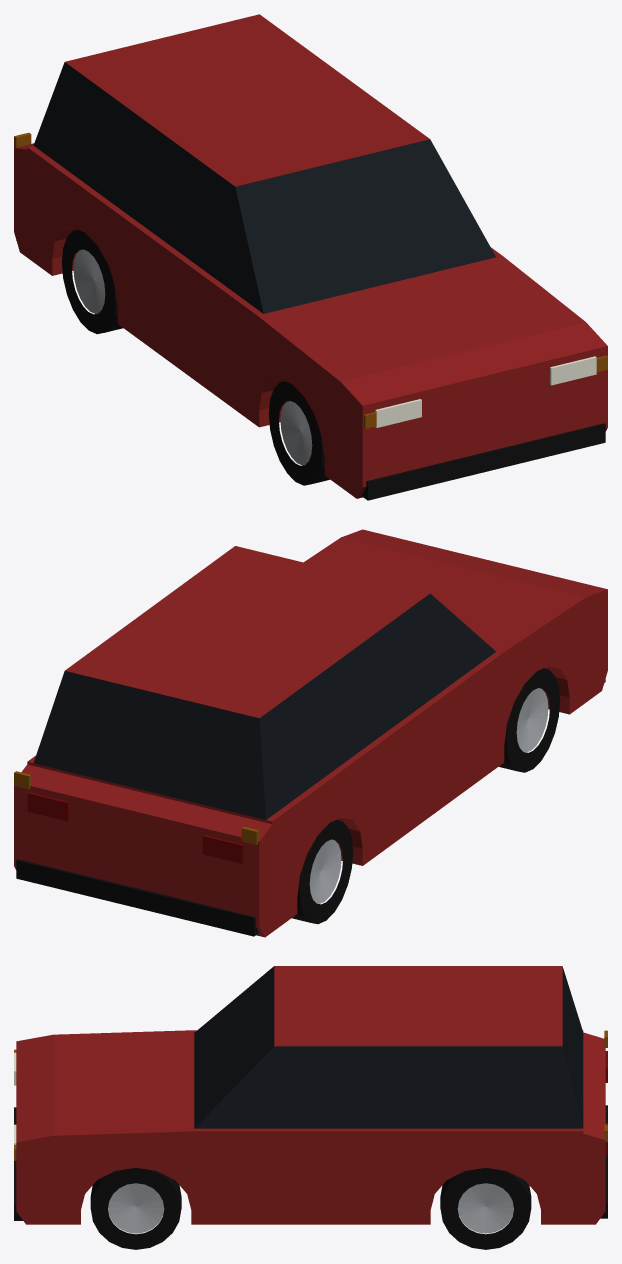
File: body.glb
3 renders of one model, top to bottom at view 1: azimuth 30°, elevation 25°; view 2: azimuth 150°, elevation 25°; view 3: azimuth 270°, elevation 25°, orthographic. The views are drawn at different scales.
Visible parts, largest first — view 1: cabin, shell, trim, wheel_RF, wheel_RR, headlight_L, headlight_R; view 2: cabin, shell, trim, wheel_RF, wheel_RR, taillight_L, taillight_R; view 3: shell, cabin, wheel_LF, wheel_LR, trim.
Boxes of the visible parts, x1,y1,x2,y2 form: cabin: (33,14,495,313); shell: (14,143,607,498); trim: (362,423,605,500); wheel_RF: (268,381,329,485); wheel_RR: (62,229,122,334); headlight_L: (550,356,596,385); headlight_R: (375,399,421,427); cabin: (33,546,495,819); shell: (14,529,607,937); trim: (16,679,605,936); wheel_RF: (499,668,559,772); wheel_RR: (292,819,353,924); taillight_L: (27,792,69,821); taillight_R: (202,835,244,863); shell: (16,1030,605,1224); cabin: (194,966,583,1128); wheel_LF: (90,1168,181,1249); wheel_LR: (440,1168,531,1249); trim: (14,1105,607,1220).
Size of the model in its own units: 1.95 by 1.75 by 4.84.
